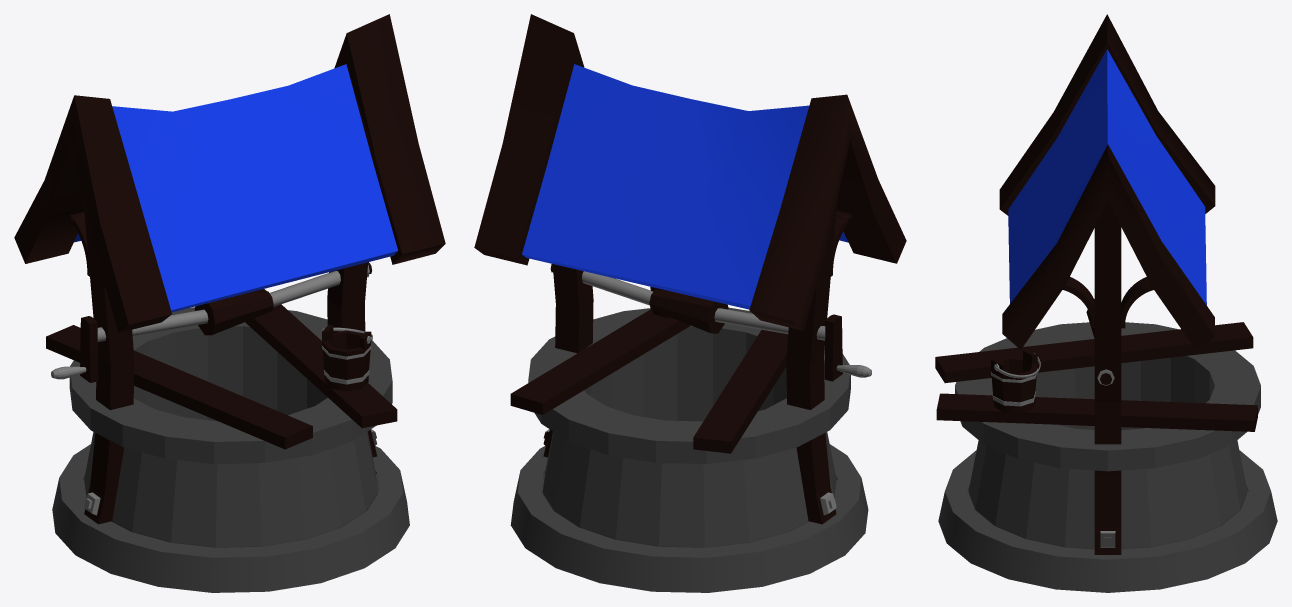
The model's file is LD_WELL.fbx.
The picture shows the model from 3 angles, left to right: view 1: azimuth 30°, elevation 25°; view 2: azimuth 150°, elevation 25°; view 3: azimuth 270°, elevation 25°; orthographic projection. The views are drawn at different scales.
Parts seen in each view (by area): view 1: WELL_LD; view 2: WELL_LD; view 3: WELL_LD.
Boxes of the visible parts, box(x1,y1,x2,y2) form: WELL_LD: box(14, 14, 445, 592); WELL_LD: box(474, 14, 906, 592); WELL_LD: box(935, 14, 1277, 592).
Bounding box in the file's own units: 50.97 × 66.34 × 46.95.
